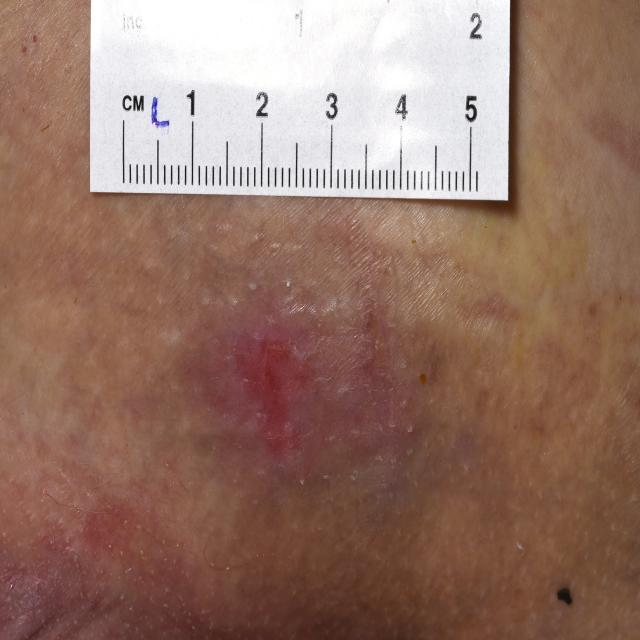wound: (173, 226, 490, 528)
